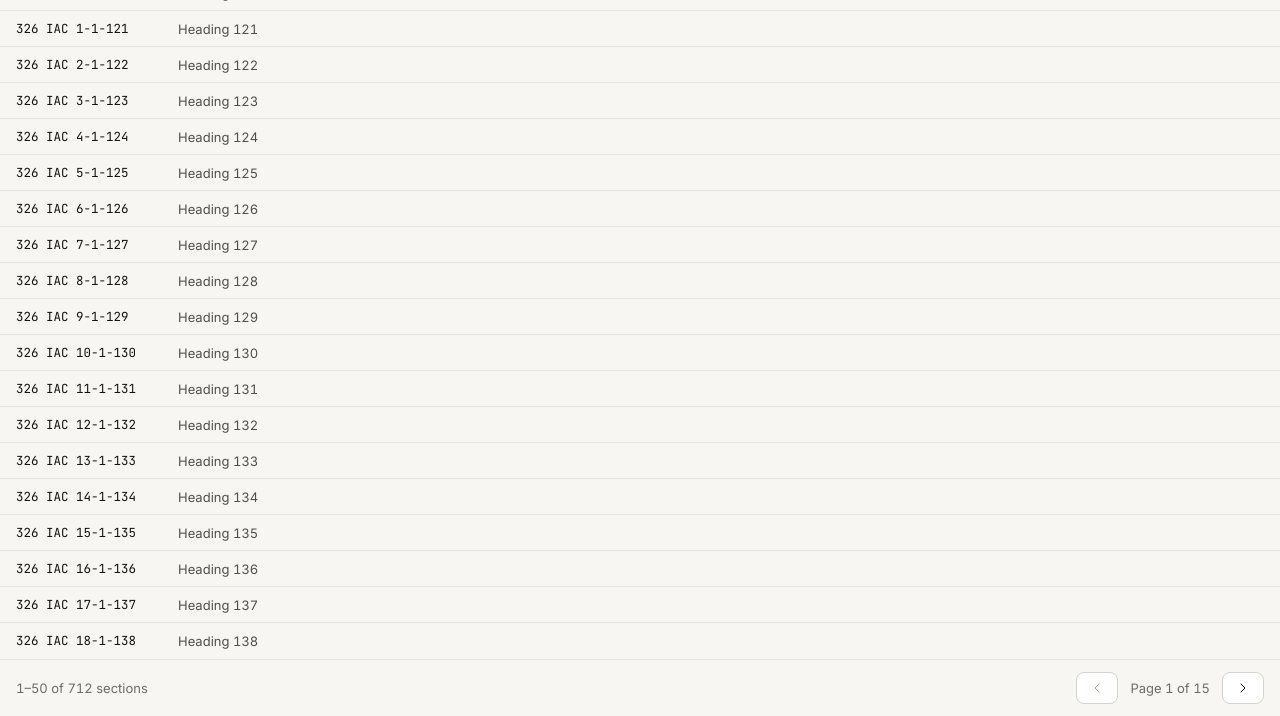
Test: SectionTree › searches into a paginated flat list
The width and height of the screenshot is (1280, 716).
(page scrolled)
Expected: the text "1–50 of 712 sections" is shown, [16, 678, 148, 698]
What coordinates should you click on to do the following:
click the button named "Next page"
I would click on:
 (1243, 688)
Its box is [1222, 672, 1264, 704].
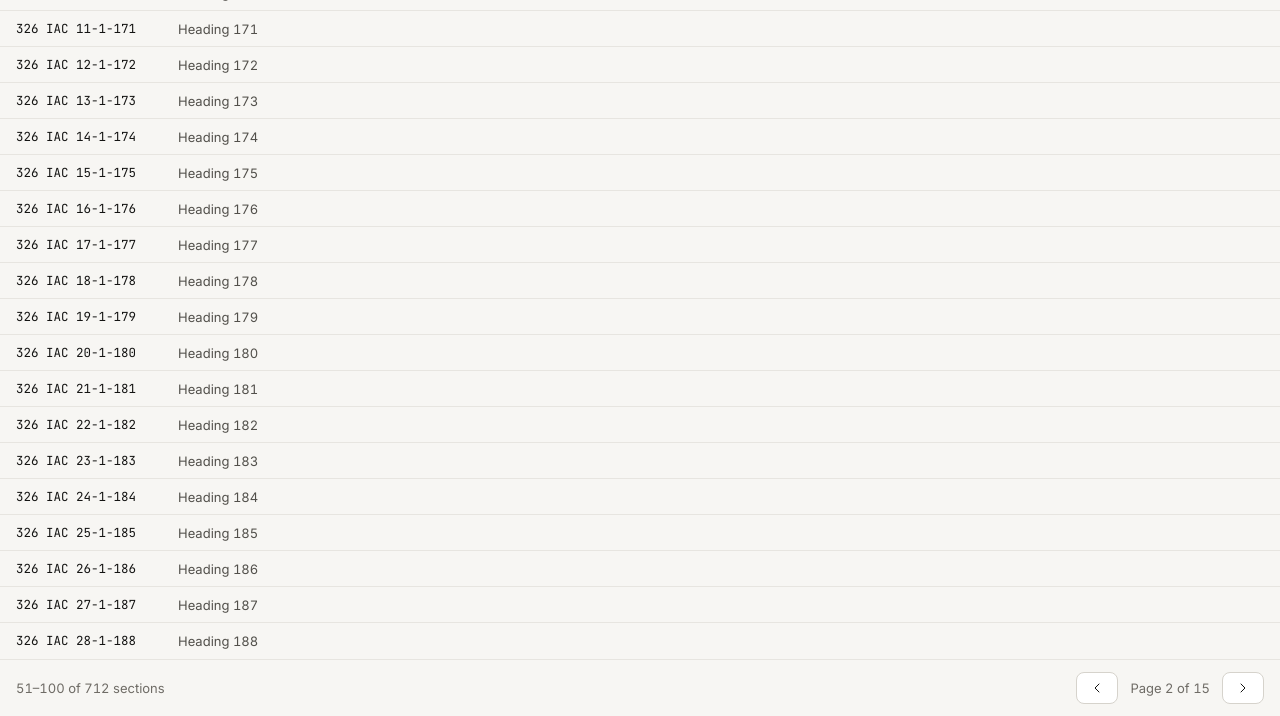
Expected: the text "Page 2 of 15" is shown, [1130, 680, 1210, 696]
